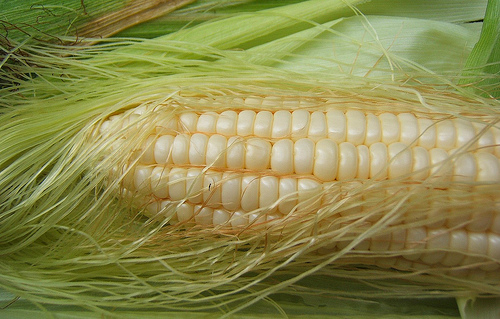corn: (73, 88, 499, 288)
